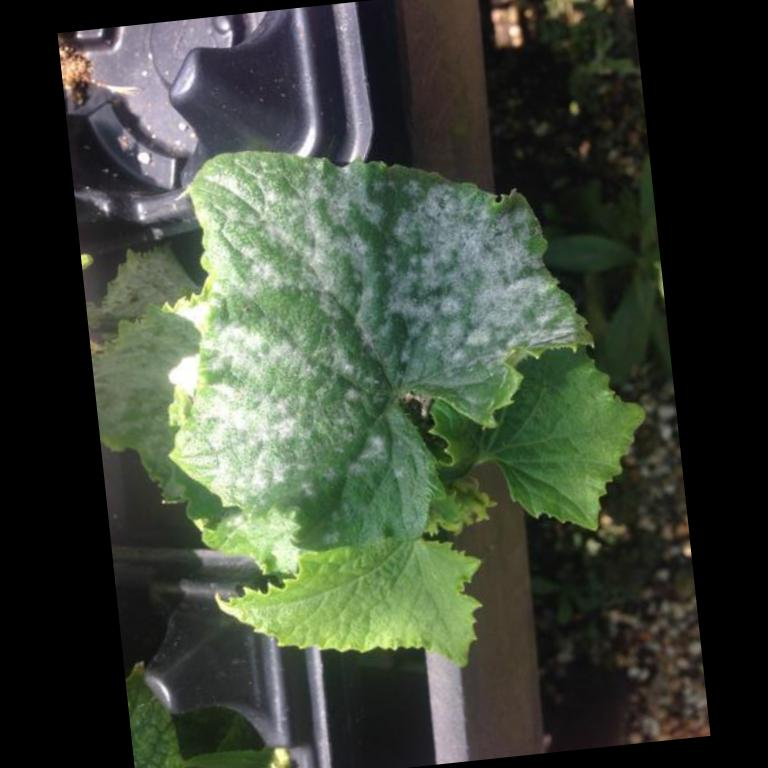powdery-mildew: (204, 207, 412, 462), (399, 206, 550, 366)
